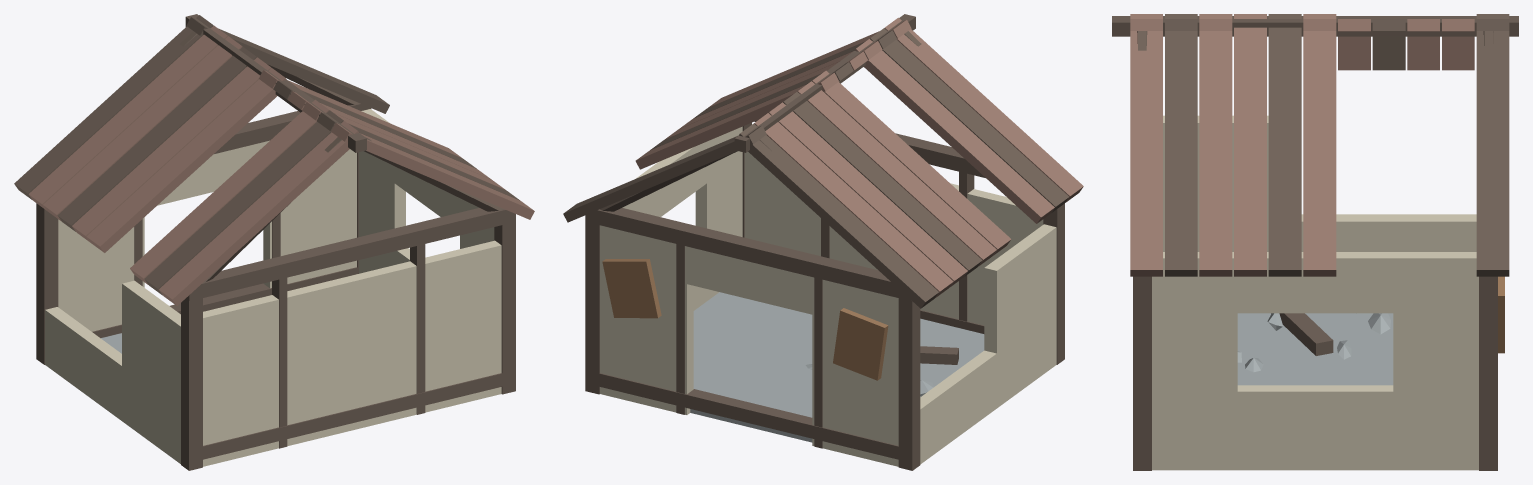
File: house_cottage_damaged.glb
3 views of the same model, side by side, from view 1: azimuth 30°, elevation 25°; view 2: azimuth 150°, elevation 25°; view 3: azimuth 270°, elevation 25° (orthographic). The views are drawn at different scales.
Parts seen in each view (by area): view 1: house_cottage_damaged; view 2: house_cottage_damaged; view 3: house_cottage_damaged.
Boxes of the visible parts, x1,y1,x2,y2 form: house_cottage_damaged: (14,14,534,470); house_cottage_damaged: (563,14,1083,470); house_cottage_damaged: (1112,14,1518,470).
Size of the model in its own units: 5.79 by 4.58 by 4.7.
